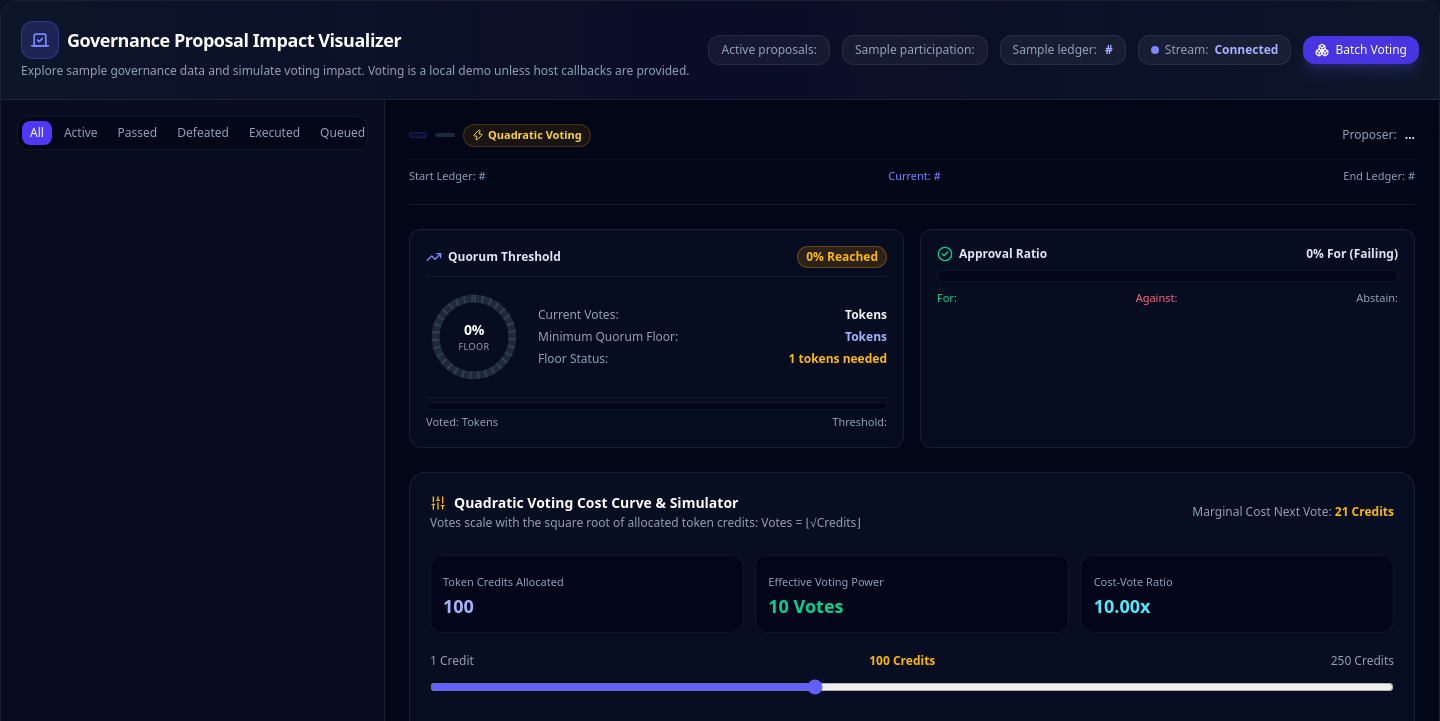
Test: ProposalImpactVisualizer Component › renders quadratic voting curve simulator for QV-enabled proposals
Check: the heading "Quadratic Voting Cost Curve & Simulator" is shown, box [430, 492, 738, 512]
Set the slider named "Quadratic credit allocation slider" to "144" at (982, 686), box [430, 682, 1394, 690]
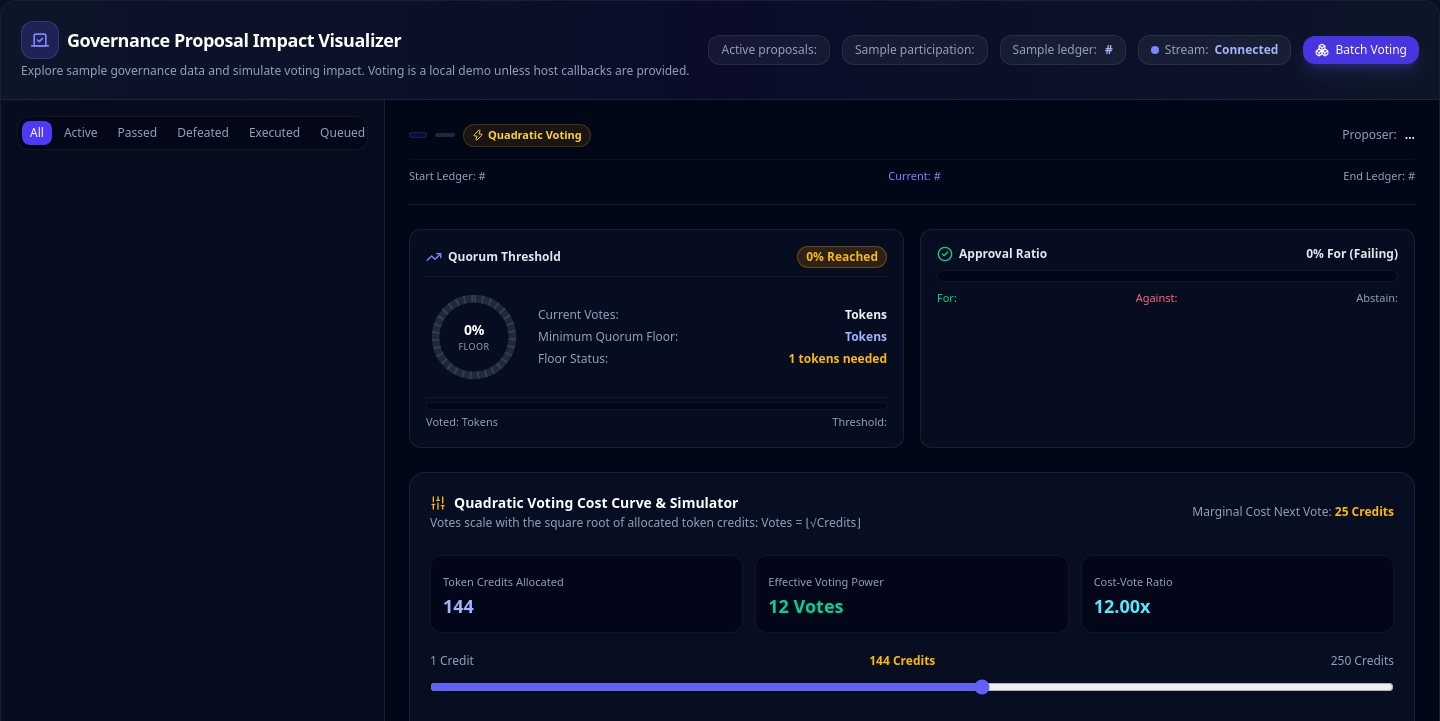
Check: the text "12 Votes" is shown, box [768, 594, 844, 618]
